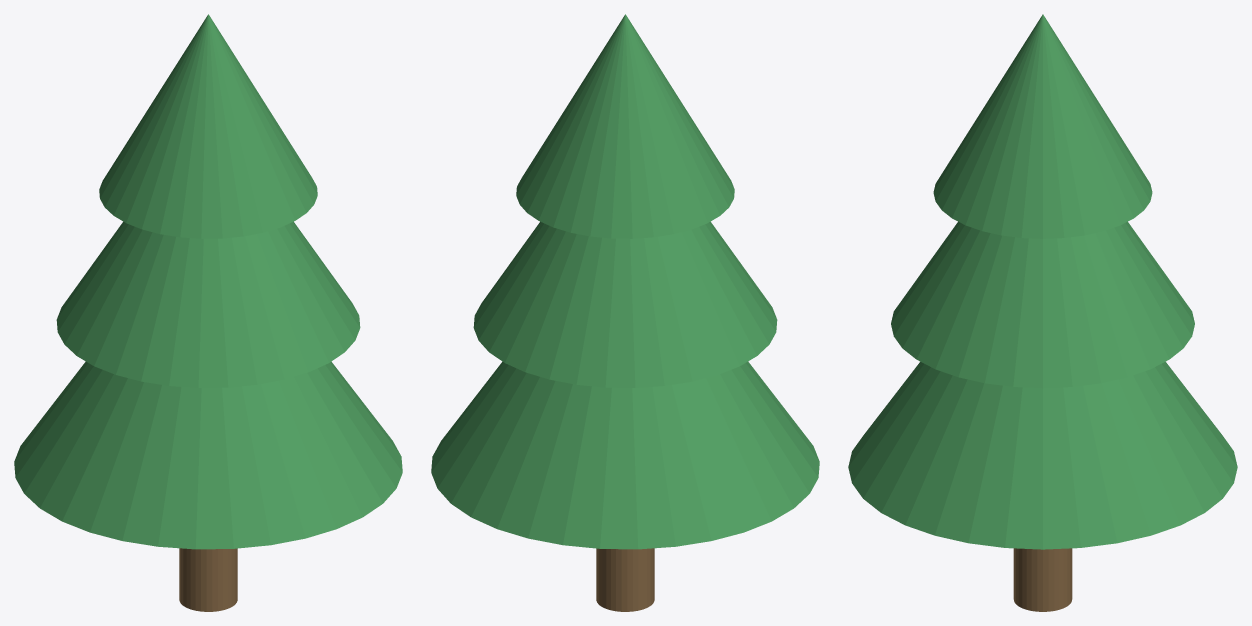
The model's file is tree.glb.
The picture shows the model from 3 angles, left to right: view 1: azimuth 30°, elevation 25°; view 2: azimuth 150°, elevation 25°; view 3: azimuth 270°, elevation 25°; orthographic projection.
Parts seen in each view (by area): view 1: PineTree; view 2: PineTree; view 3: PineTree.
Boxes of the visible parts, box(x1,y1,x2,y2) form: PineTree: box(14, 14, 402, 611); PineTree: box(431, 14, 819, 611); PineTree: box(848, 14, 1237, 611).
Bounding box in the file's own units: 1.6 × 2.66 × 1.6.
